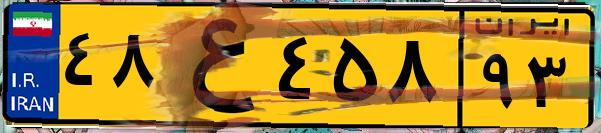3: (525, 38, 570, 115)
4: (270, 28, 330, 110), (57, 26, 110, 100)
5: (330, 28, 385, 110)
8: (385, 28, 445, 110), (110, 28, 158, 98)
9: (475, 38, 525, 113)
ع: (158, 12, 270, 120)
